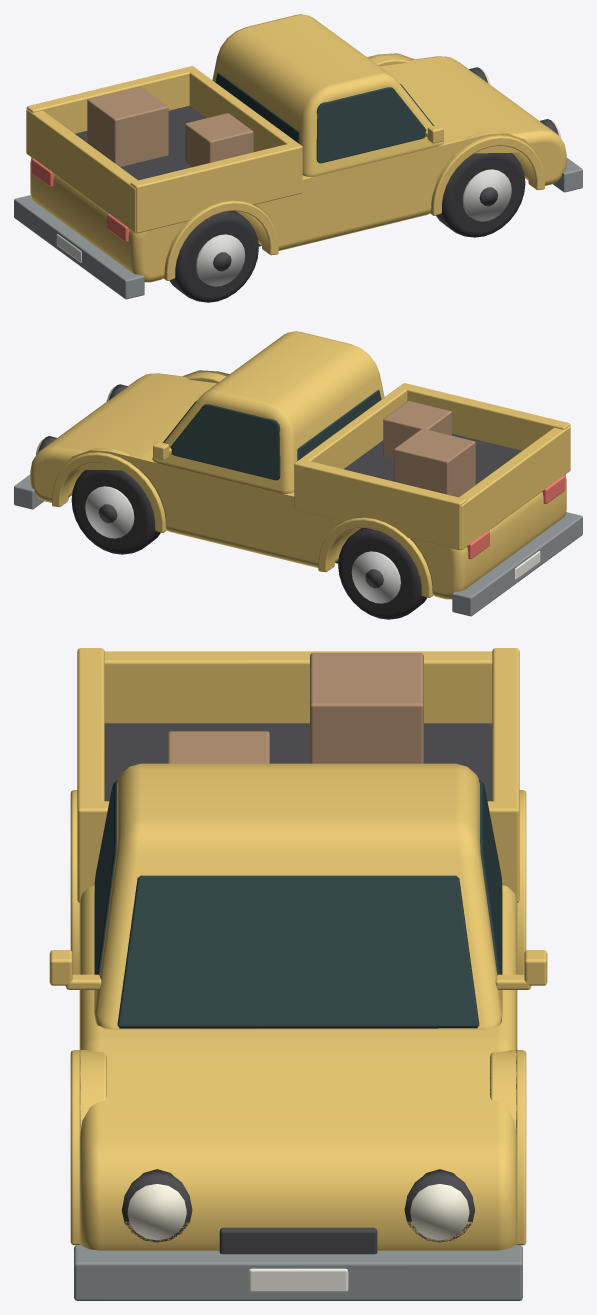
Rendered from pickup_mustard.glb.
The picture shows the model from 3 angles, top to bottom: view 1: azimuth 30°, elevation 25°; view 2: azimuth 150°, elevation 25°; view 3: azimuth 270°, elevation 25°; orthographic projection. The views are drawn at different scales.
Parts seen in each view (by area): view 1: pickup_mustard_trim, pickup_mustard_body, pickup_mustard_wheels, pickup_mustard_glass, pickup_mustard_round; view 2: pickup_mustard_trim, pickup_mustard_body, pickup_mustard_wheels, pickup_mustard_glass, pickup_mustard_round; view 3: pickup_mustard_body, pickup_mustard_trim, pickup_mustard_glass, pickup_mustard_round.
Boxes of the visible parts, x1,y1,x2,y2 form: pickup_mustard_trim: (14, 55, 582, 299); pickup_mustard_body: (30, 14, 566, 282); pickup_mustard_wheels: (170, 153, 525, 302); pickup_mustard_glass: (215, 72, 433, 163); pickup_mustard_round: (196, 67, 560, 286); pickup_mustard_trim: (14, 372, 582, 616); pickup_mustard_body: (30, 331, 566, 599); pickup_mustard_wheels: (71, 470, 426, 619); pickup_mustard_glass: (163, 389, 381, 480); pickup_mustard_round: (36, 384, 400, 603); pickup_mustard_body: (79, 763, 517, 1250); pickup_mustard_trim: (49, 648, 547, 1300); pickup_mustard_glass: (94, 780, 502, 1028); pickup_mustard_round: (121, 1169, 475, 1242).
Bounding box in the file's own units: 4.66 × 1.73 × 2.18.
